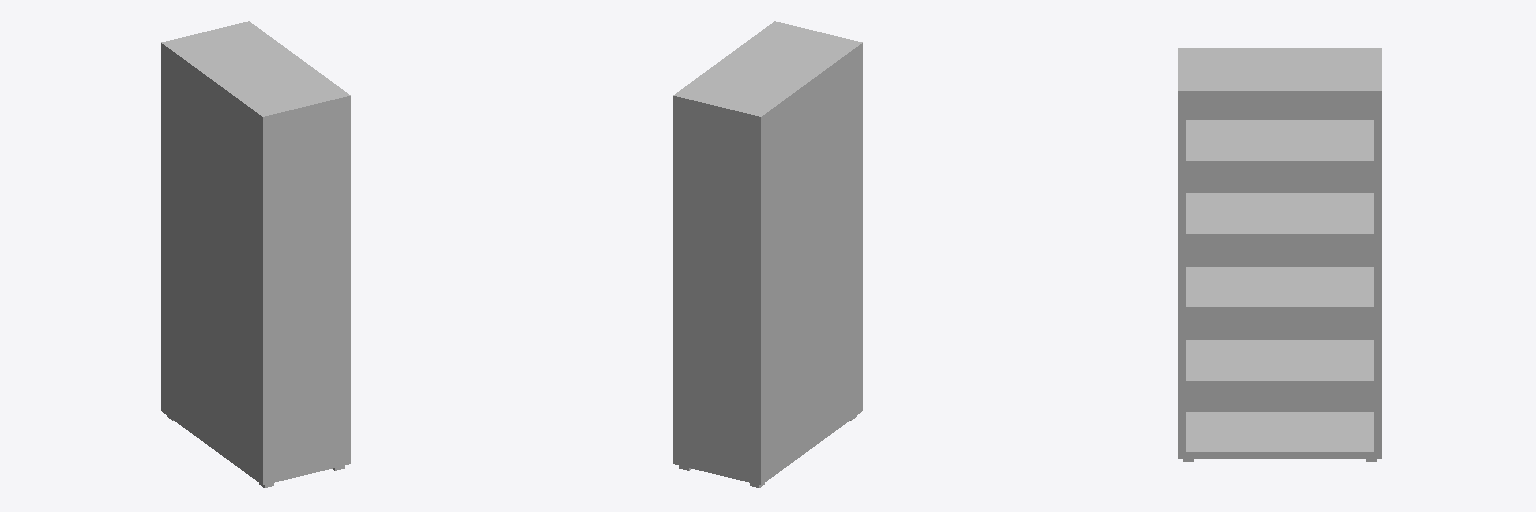
Rendered from Closet.obj.
3 renders of one model, left to right at view 1: azimuth 30°, elevation 25°; view 2: azimuth 150°, elevation 25°; view 3: azimuth 270°, elevation 25°, orthographic.
Visible parts, largest first — view 1: Closet_Material.005; view 2: Closet_Material.005; view 3: Closet_Material.005.
Part boxes in pixels (x1,y1,x2,y2): Closet_Material.005: (161,21,350,487); Closet_Material.005: (673,21,862,487); Closet_Material.005: (1178,48,1381,461).
Size of the model in its own units: 0.5 by 2.03 by 1.